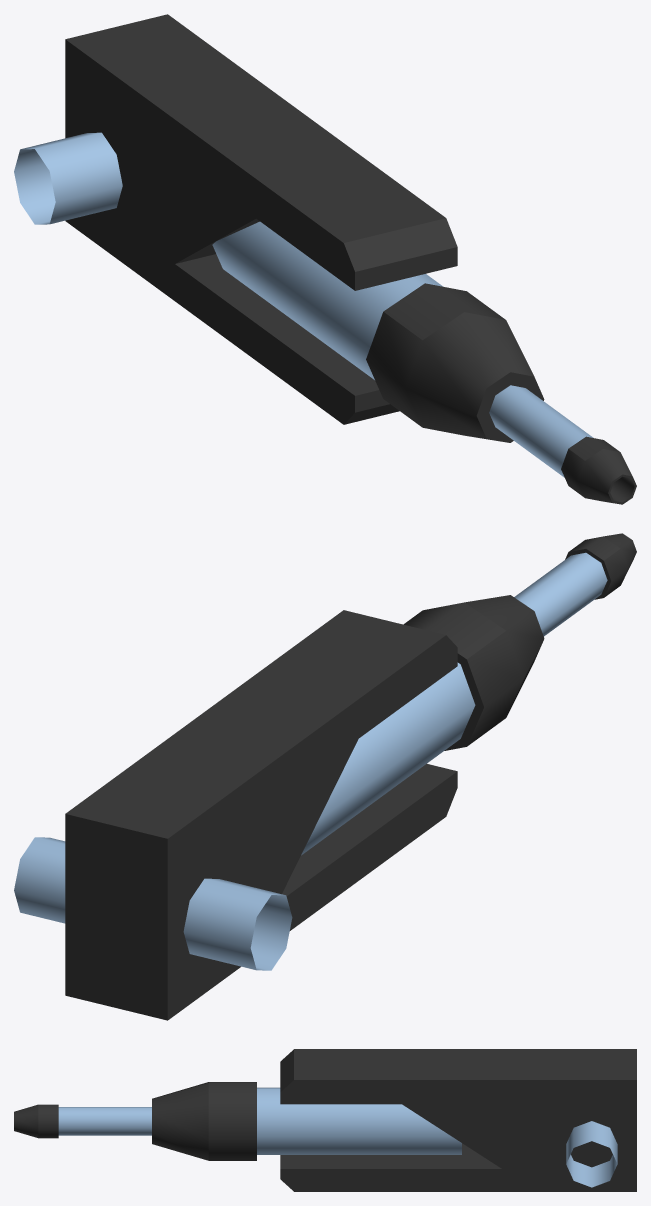
The model's file is Turret_Laser.FBX.
The picture shows the model from 3 angles, top to bottom: view 1: azimuth 30°, elevation 25°; view 2: azimuth 150°, elevation 25°; view 3: azimuth 270°, elevation 25°; orthographic projection. The views are drawn at different scales.
Visible parts, largest first — view 1: Barrel; view 2: Barrel; view 3: Barrel.
Part boxes in pixels (x1,y1,x2,y2): Barrel: (14, 14, 636, 504); Barrel: (14, 533, 636, 1020); Barrel: (14, 1049, 636, 1191).
Bounding box in the file's own units: 47.43 × 176 × 34.81.
